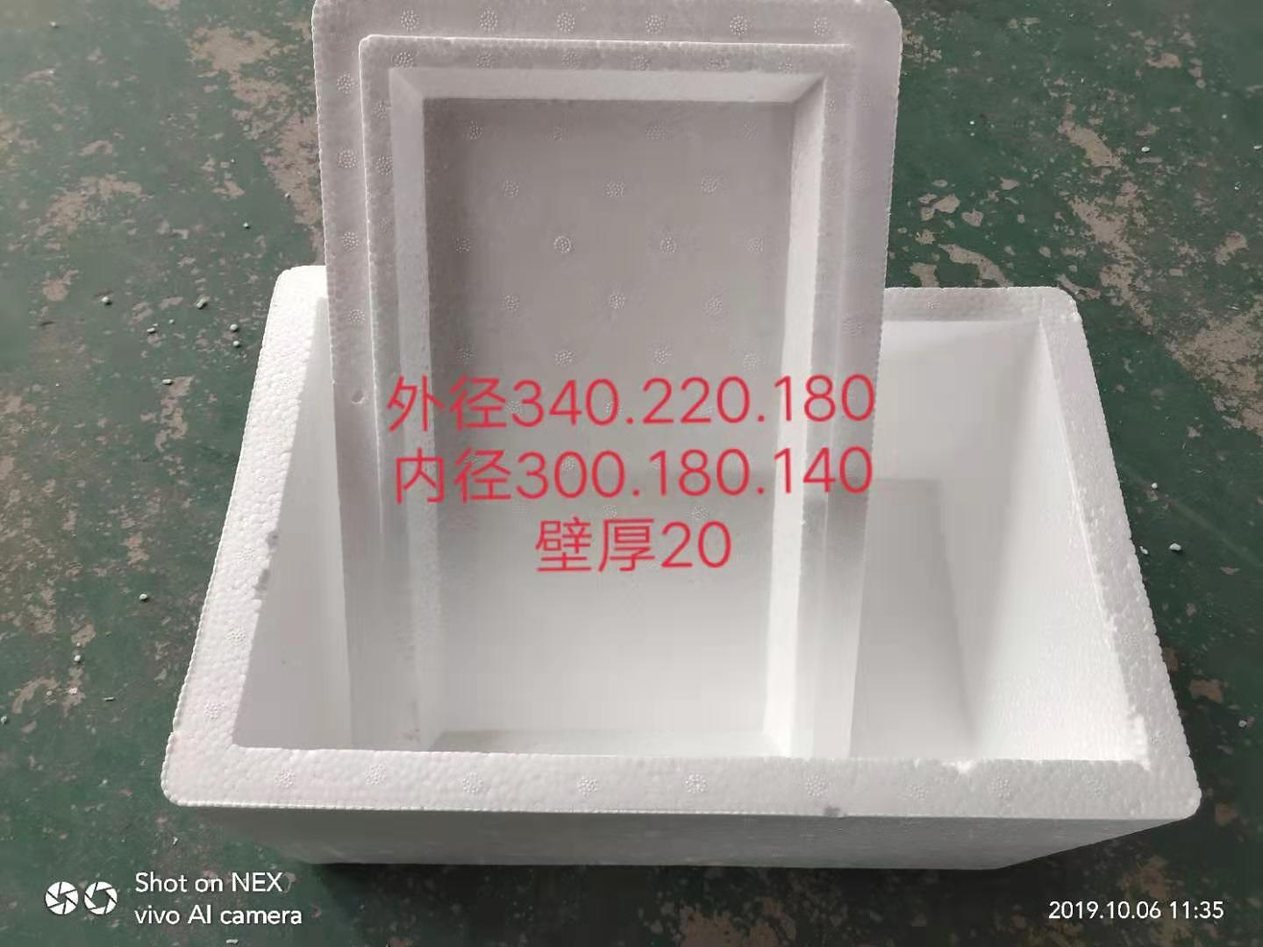泡沫箱: (162, 0, 1199, 866)
